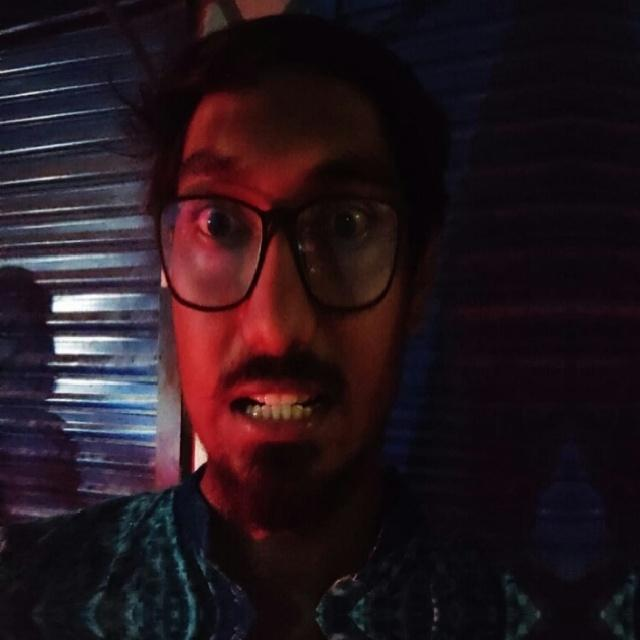angry: (112, 85, 465, 514)
